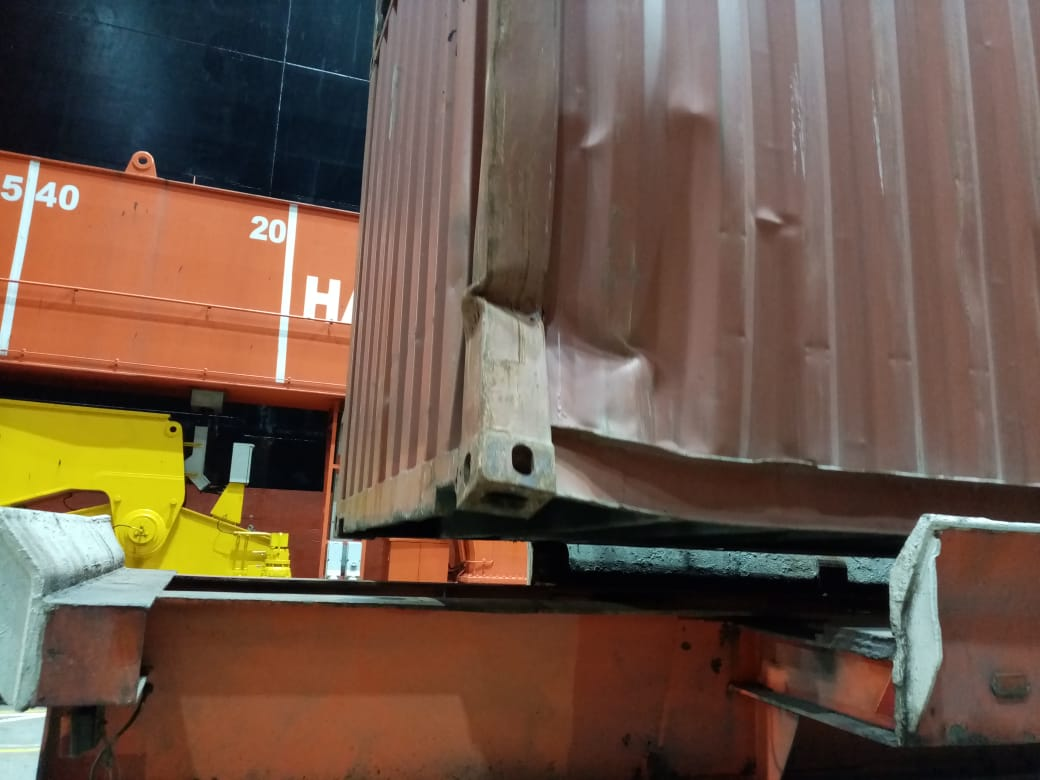front_side: (286, 1, 500, 489)
left_side: (482, 1, 1040, 485)
